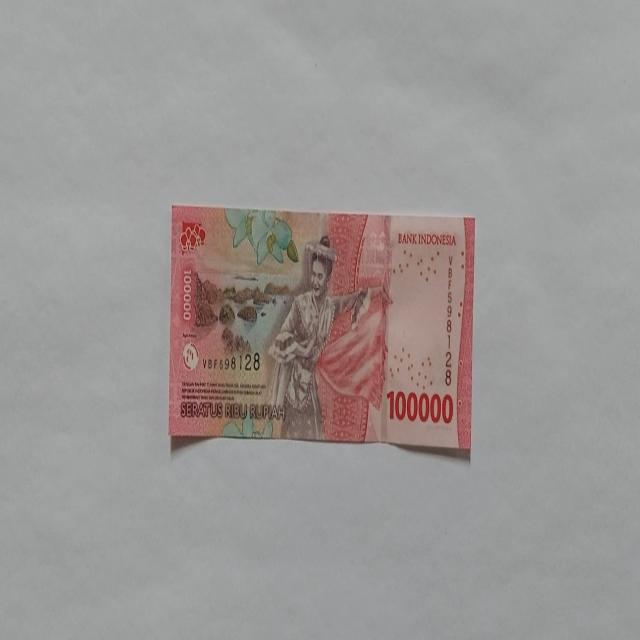seratus ribu rupiah: (168, 205, 475, 456), (266, 235, 374, 441)
